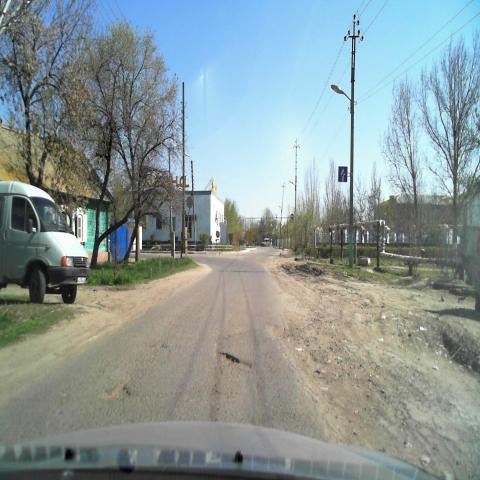5_6: (338, 166, 348, 183)
